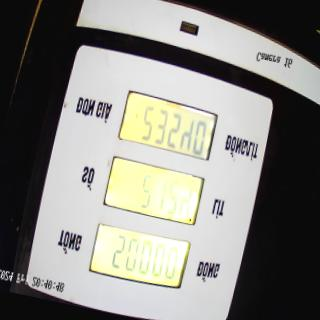screen: (83, 85, 223, 295)
